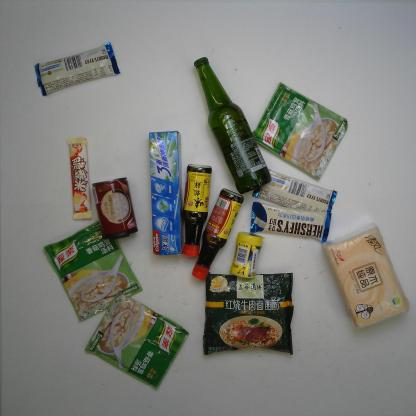Alcohol: (193, 56, 273, 194)
Canned Food: (89, 175, 139, 242)
Chocolate: (33, 40, 121, 98), (250, 166, 338, 218), (250, 201, 332, 243), (66, 136, 93, 221)
Gum: (229, 230, 266, 278)
Instant Noodles: (201, 268, 296, 355)
Personal Hygiene: (148, 130, 187, 258)
Seasoner: (84, 289, 190, 392), (43, 219, 144, 322), (251, 82, 348, 180), (189, 188, 244, 280), (180, 164, 213, 258)
Tissue: (318, 221, 411, 332)
